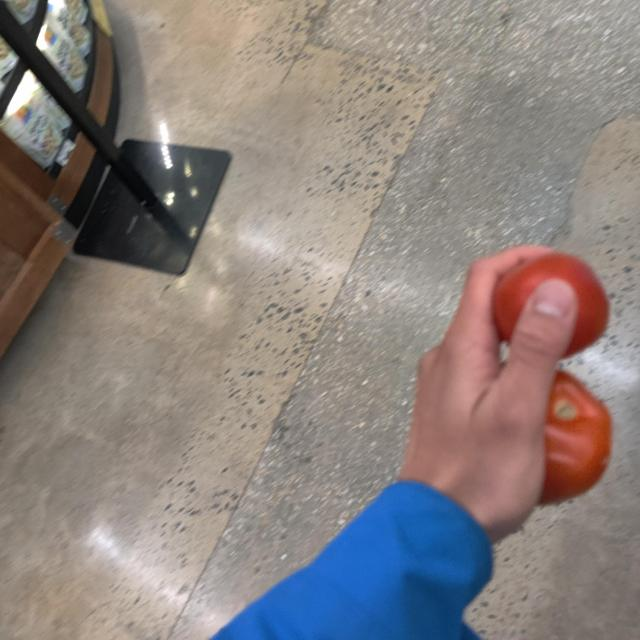Tomatoes: (485, 369, 618, 508), (467, 248, 620, 367)
